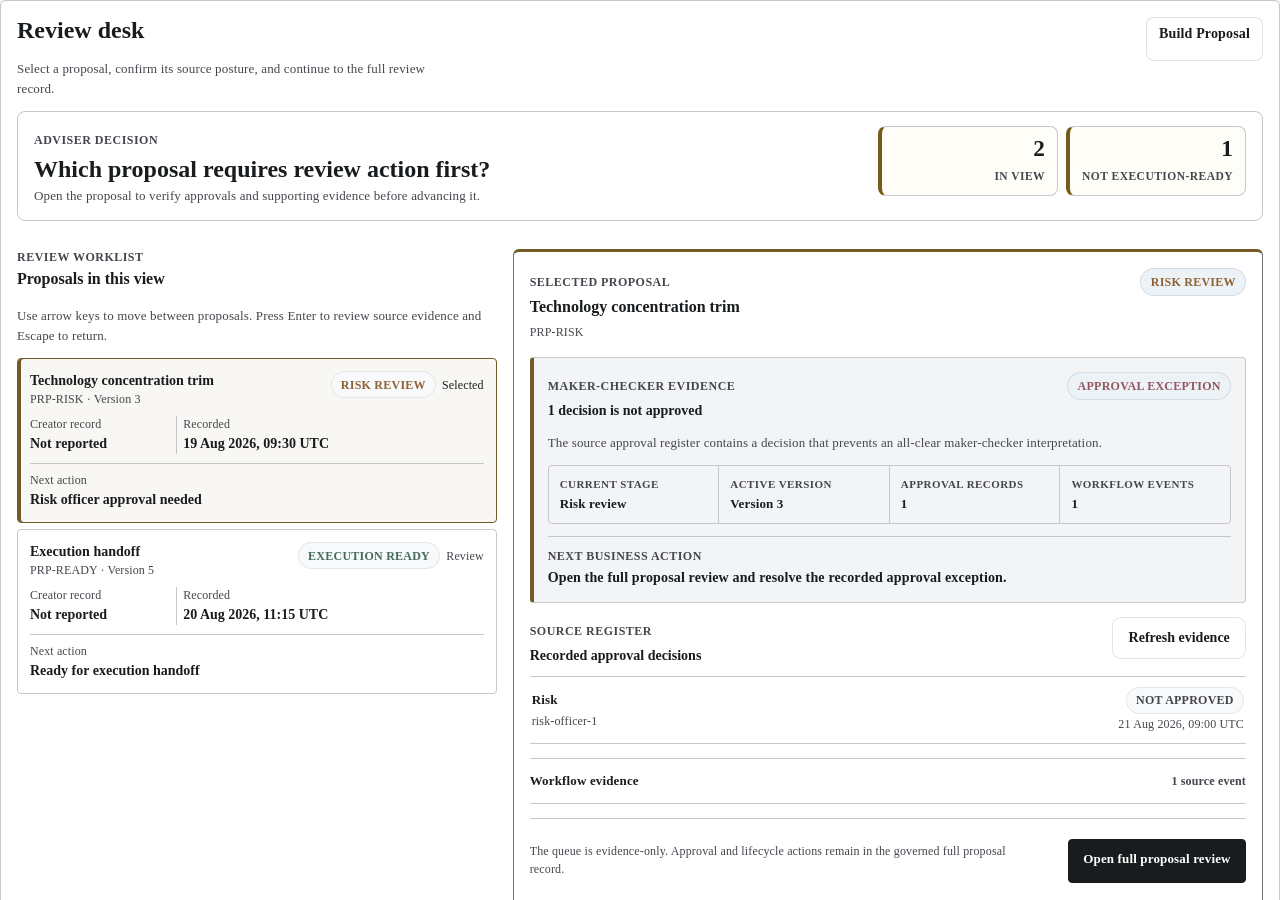
Test case: ProposalLifecycleWorkspace › confirms refreshed evidence when the same selected proposal advances version
This screenshot has width=1280, height=900.
Expected: the heading "1 decision is not approved" is shown, [548,403,702,418]
Click the button "Refresh evidence" at (1179, 638), box [1112,617,1246,659]
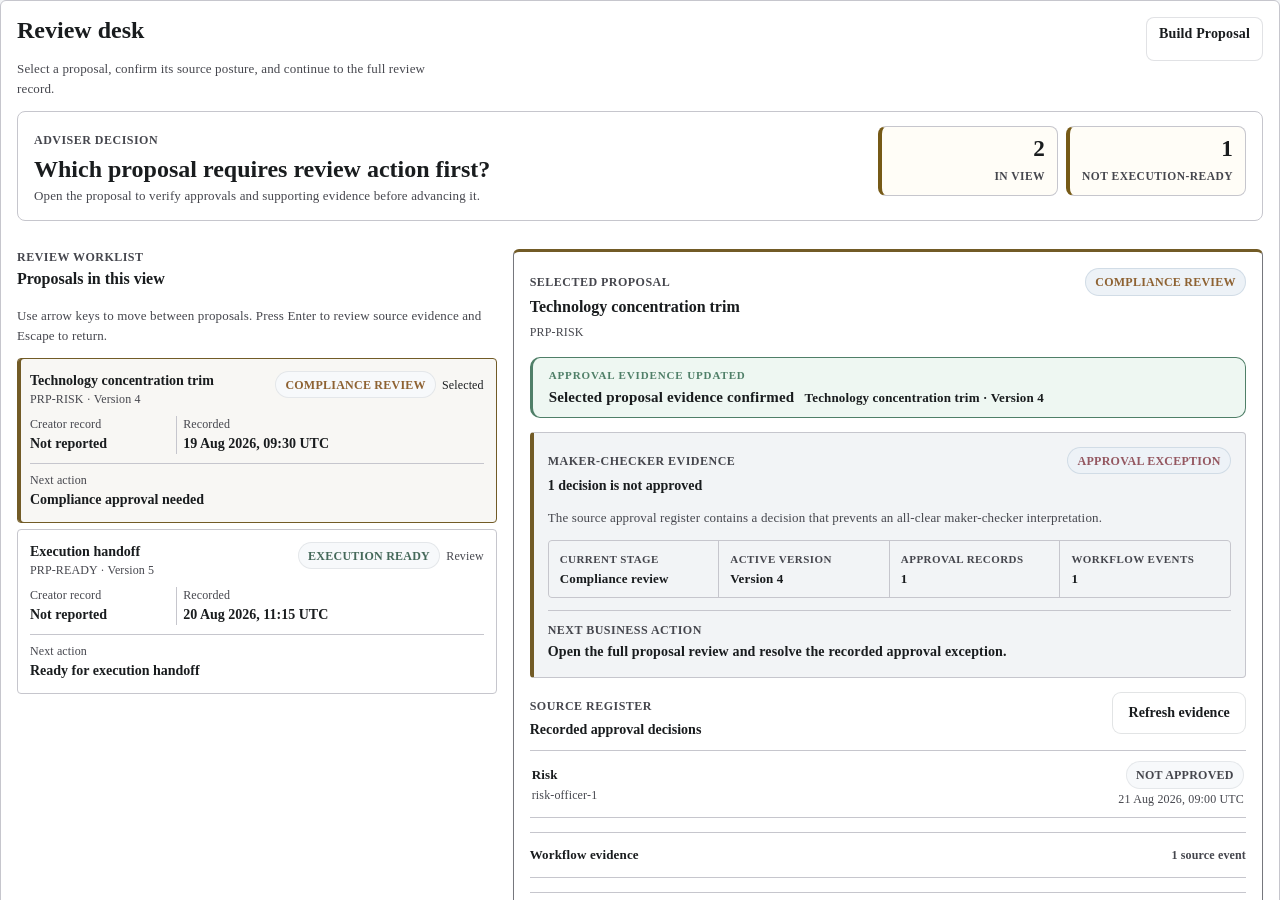
Expected: the text "Selected proposal evidence confirmed" is shown, [549,387,794,407]
Expected: the text "Technology concentration trim · Version 4" is shown, [805,389,1044,407]
